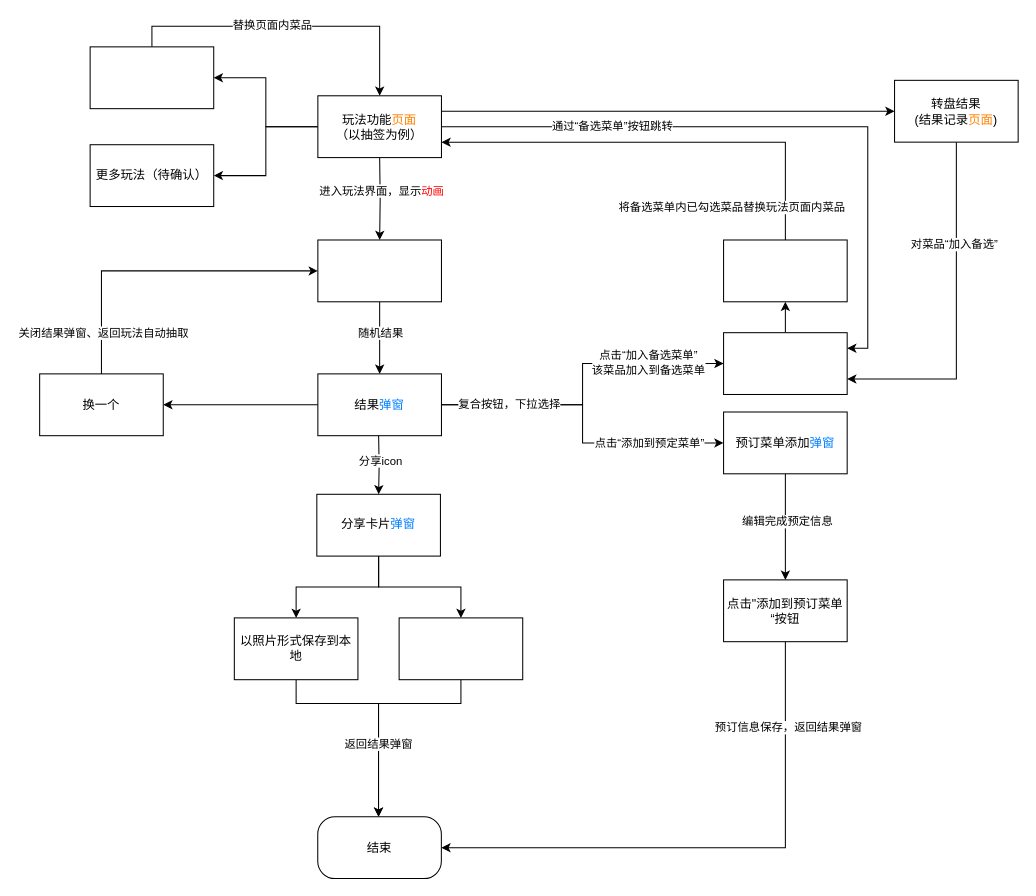
This 1036x896 diagram has some shape labels left out. The shapes that lost their labels are listed below. From the top down, each one's box as (x1, y1, x2, y2) in pixels, then its label:
(89, 46, 214, 109): 添加菜品 弹窗
(317, 239, 441, 302): 点击抽签（执行按钮）
(723, 239, 847, 302): 再转一次
(723, 332, 847, 394): 备选菜单半屏 弹窗
(398, 617, 523, 680): 微信好友分享
